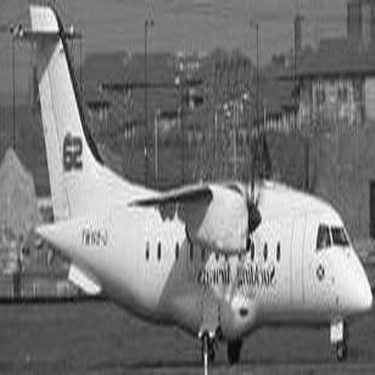airplane: (2, 2, 370, 370)
